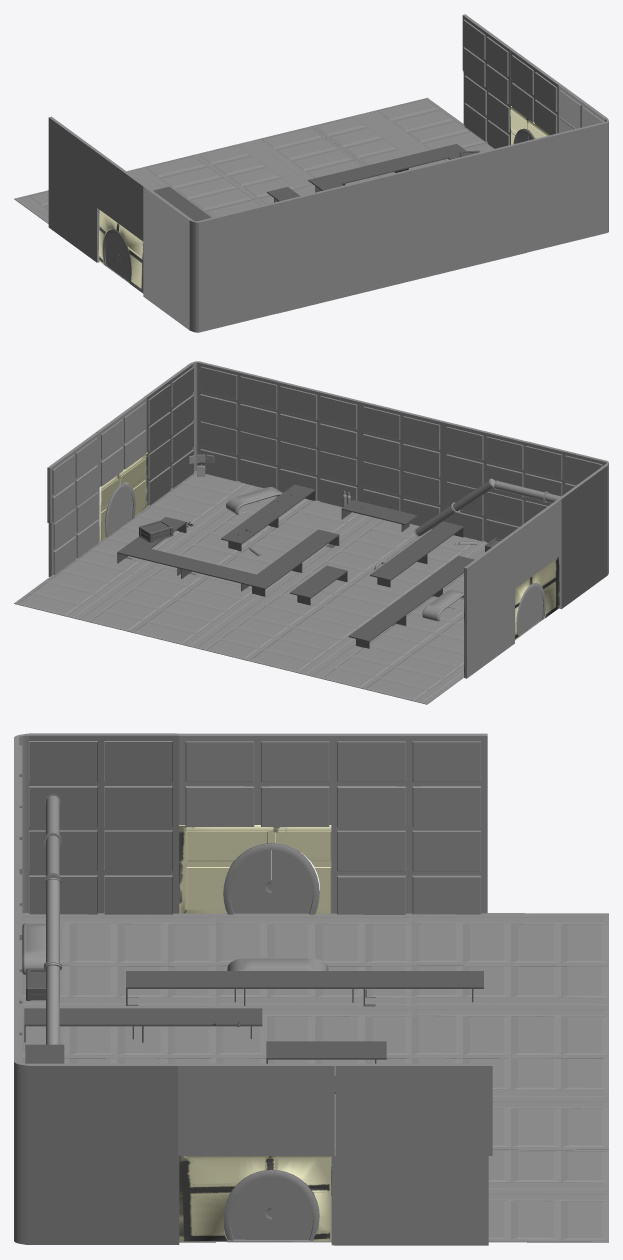
The model's file is ROOM10.FBX.
3 views of the same model, one above another, from view 1: azimuth 30°, elevation 25°; view 2: azimuth 150°, elevation 25°; view 3: azimuth 270°, elevation 25° (orthographic). The views are drawn at different scales.
Parts seen in each view (by area): view 1: pCube009, pCube035, pCube059, pCube058, pCube036, pCube039, pCube008, pCube041, pCube038, pCube040, pCube042, pCube037 (+15 smaller); view 2: pCube036, pCube059, pCube058, pCube037, pCube060, pCube051, pCube009, pCube008, pCube039, pCube2, pCube055, pCube057 (+37 smaller); view 3: pCube060, pCube036, pCube009, pCube037, pCube048, pCube043, pCube045, pCube049, pCube044, pCube050, pCube035, pCube059 (+23 smaller).
Part boxes in pixels (bbox=[...]): pCube009: bbox=[143, 186, 278, 277]; pCube035: bbox=[143, 242, 278, 332]; pCube059: bbox=[195, 126, 365, 198]; pCube058: bbox=[311, 97, 486, 165]; pCube036: bbox=[526, 84, 608, 197]; pCube039: bbox=[360, 161, 444, 237]; pCube008: bbox=[443, 141, 527, 217]; pCube041: bbox=[278, 182, 361, 257]; pCube038: bbox=[444, 197, 527, 272]; pCube040: bbox=[361, 218, 444, 292]; pCube042: bbox=[279, 238, 361, 313]; pCube037: bbox=[527, 177, 608, 252]; pCube036: bbox=[144, 361, 278, 452]; pCube059: bbox=[130, 587, 306, 660]; pCube058: bbox=[14, 559, 190, 631]; pCube037: bbox=[147, 417, 277, 505]; pCube060: bbox=[246, 615, 422, 688]; pCube051: bbox=[251, 500, 419, 571]; pCube009: bbox=[525, 441, 608, 553]; pCube008: bbox=[277, 381, 361, 457]; pCube039: bbox=[360, 401, 444, 477]; pCube2: bbox=[137, 471, 309, 542]; pCube055: bbox=[307, 571, 463, 643]; pCube057: bbox=[76, 515, 250, 586]; pCube060: bbox=[411, 964, 608, 1057]; pCube036: bbox=[14, 998, 179, 1155]; pCube009: bbox=[14, 733, 179, 826]; pCube037: bbox=[14, 1152, 179, 1244]; pCube048: bbox=[331, 733, 487, 826]; pCube043: bbox=[335, 1063, 492, 1155]; pCube045: bbox=[178, 1063, 334, 1155]; pCube049: bbox=[179, 733, 335, 826]; pCube044: bbox=[331, 1153, 488, 1245]; pCube050: bbox=[331, 825, 487, 914]; pCube035: bbox=[22, 825, 179, 914]; pCube059: bbox=[411, 1056, 608, 1149].
Size of the model in its own units: 1376 by 349 by 1041.
